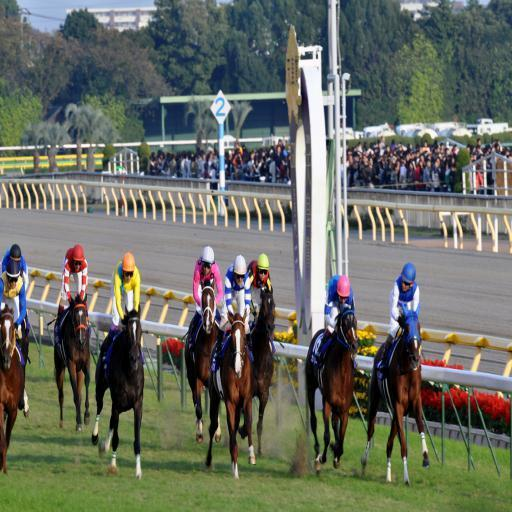horse: (359, 300, 433, 490), (89, 303, 144, 480), (305, 296, 358, 476), (204, 307, 256, 482), (238, 282, 280, 462), (181, 278, 224, 446), (51, 292, 89, 433), (0, 302, 27, 472)
